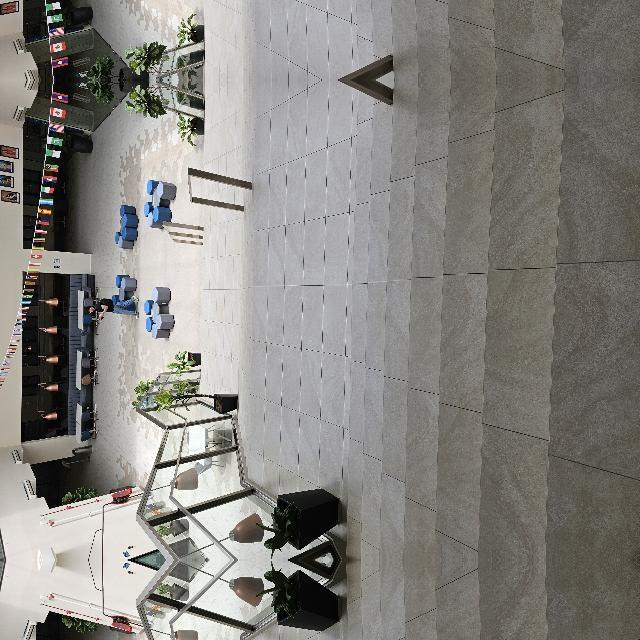obstacle: (8, 344, 78, 428), (351, 262, 399, 334), (145, 289, 169, 317)
